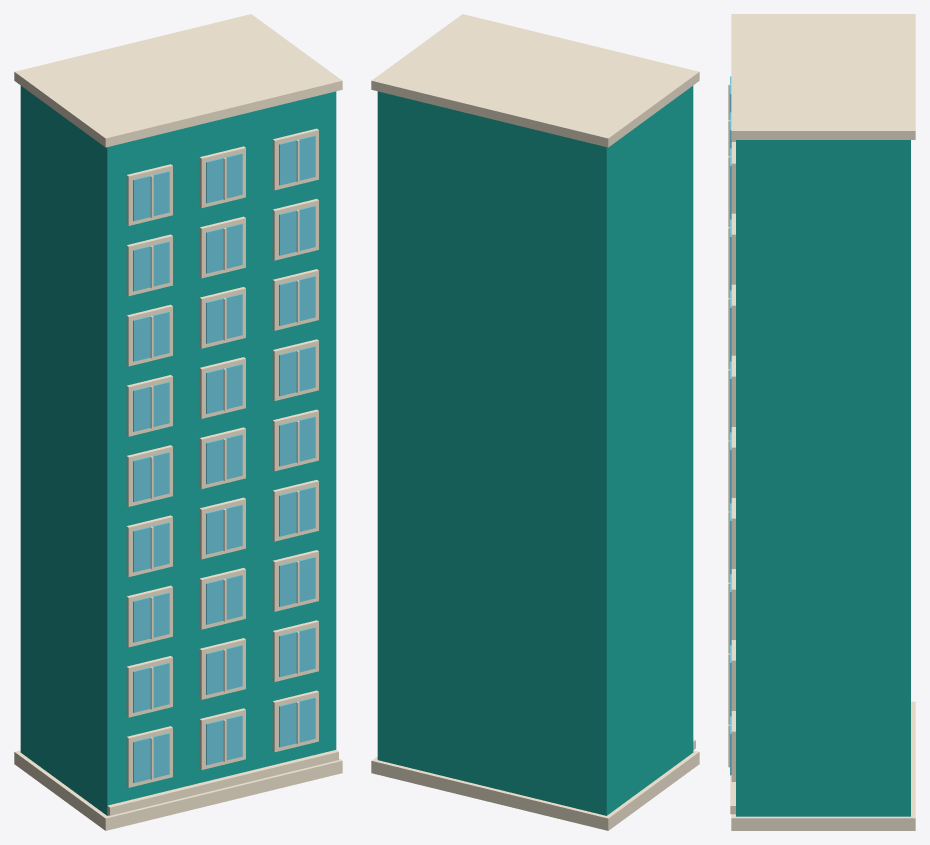
File: 11_skyline_b.obj
3 views of the same model, side by side, from view 1: azimuth 30°, elevation 25°; view 2: azimuth 150°, elevation 25°; view 3: azimuth 270°, elevation 25° (orthographic).
Visible parts, largest first — view 1: part_1, part_2, part_0, part_3, part_11, part_47, part_8, part_32, part_38, part_44, part_50, part_56 (+46 smaller); view 2: part_1, part_2, part_0; view 3: part_1, part_2, part_0.
Boxes of the visible parts, box(x1,y1,x2,y2) form: part_1: box(20, 86, 336, 815); part_2: box(14, 14, 342, 147); part_0: box(14, 750, 342, 830); part_3: box(107, 750, 338, 815); part_11: box(279, 697, 315, 747); part_47: box(279, 416, 315, 466); part_8: box(206, 715, 242, 765); part_32: box(133, 522, 169, 572); part_38: box(279, 486, 315, 536); part_44: box(206, 434, 242, 484); part_50: box(133, 381, 169, 431); part_56: box(279, 346, 315, 396); part_1: box(377, 86, 693, 815); part_2: box(371, 14, 699, 147); part_0: box(371, 750, 699, 830); part_1: box(736, 140, 910, 816); part_2: box(731, 14, 915, 139); part_0: box(731, 701, 915, 830).
Bounding box in the file's own units: 6 × 16.76 × 4.07.
